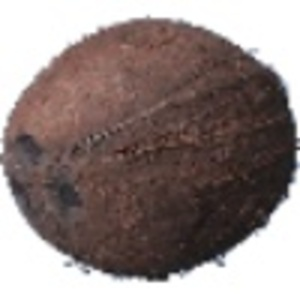coco: (1, 18, 300, 282)
